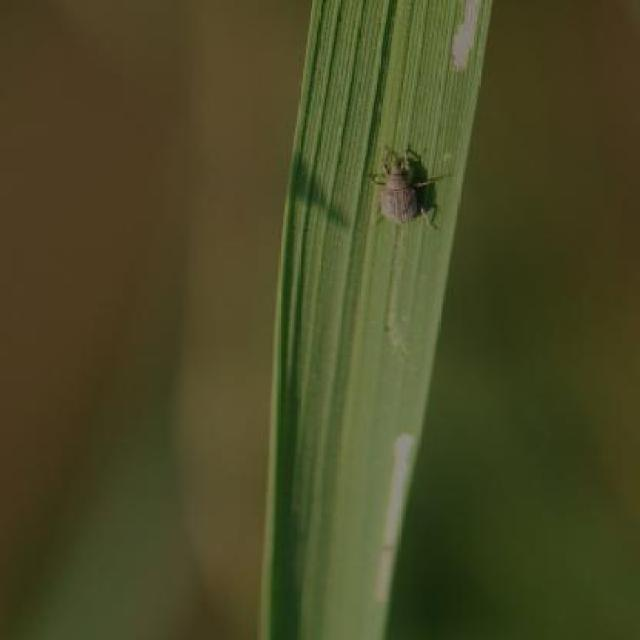rice-bug: (370, 142, 444, 224)
